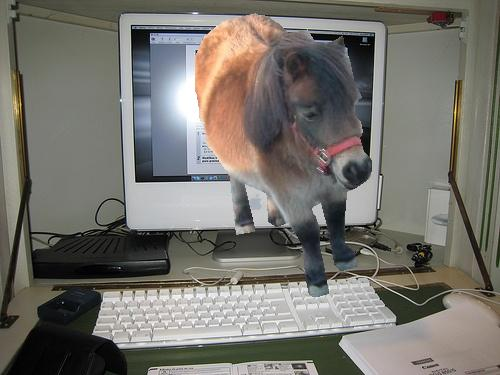tampered: (196, 14, 372, 297)
